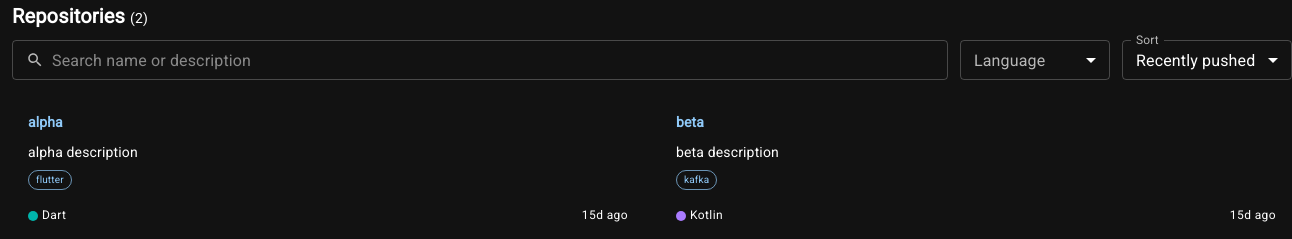
Test case: RepoGrid › lists only languages actually present in the repos
Click the dropdown named "Language": (1035, 60) [960,40,1110,80]
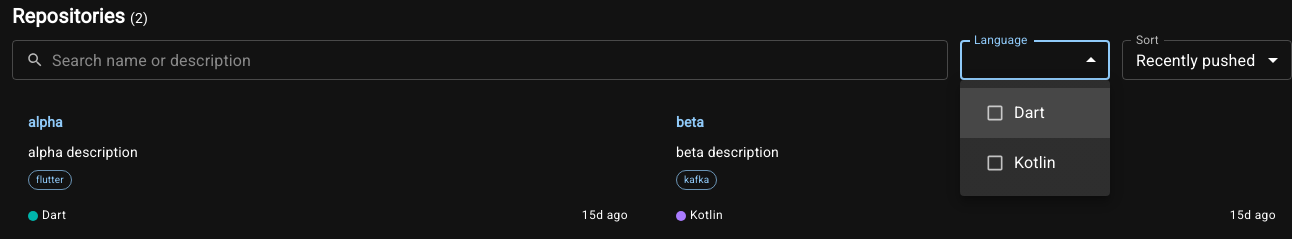
Expected: the option "Dart" is shown, [960,88,1110,138]
Expected: the option "Kotlin" is shown, [985,153,1056,173]
